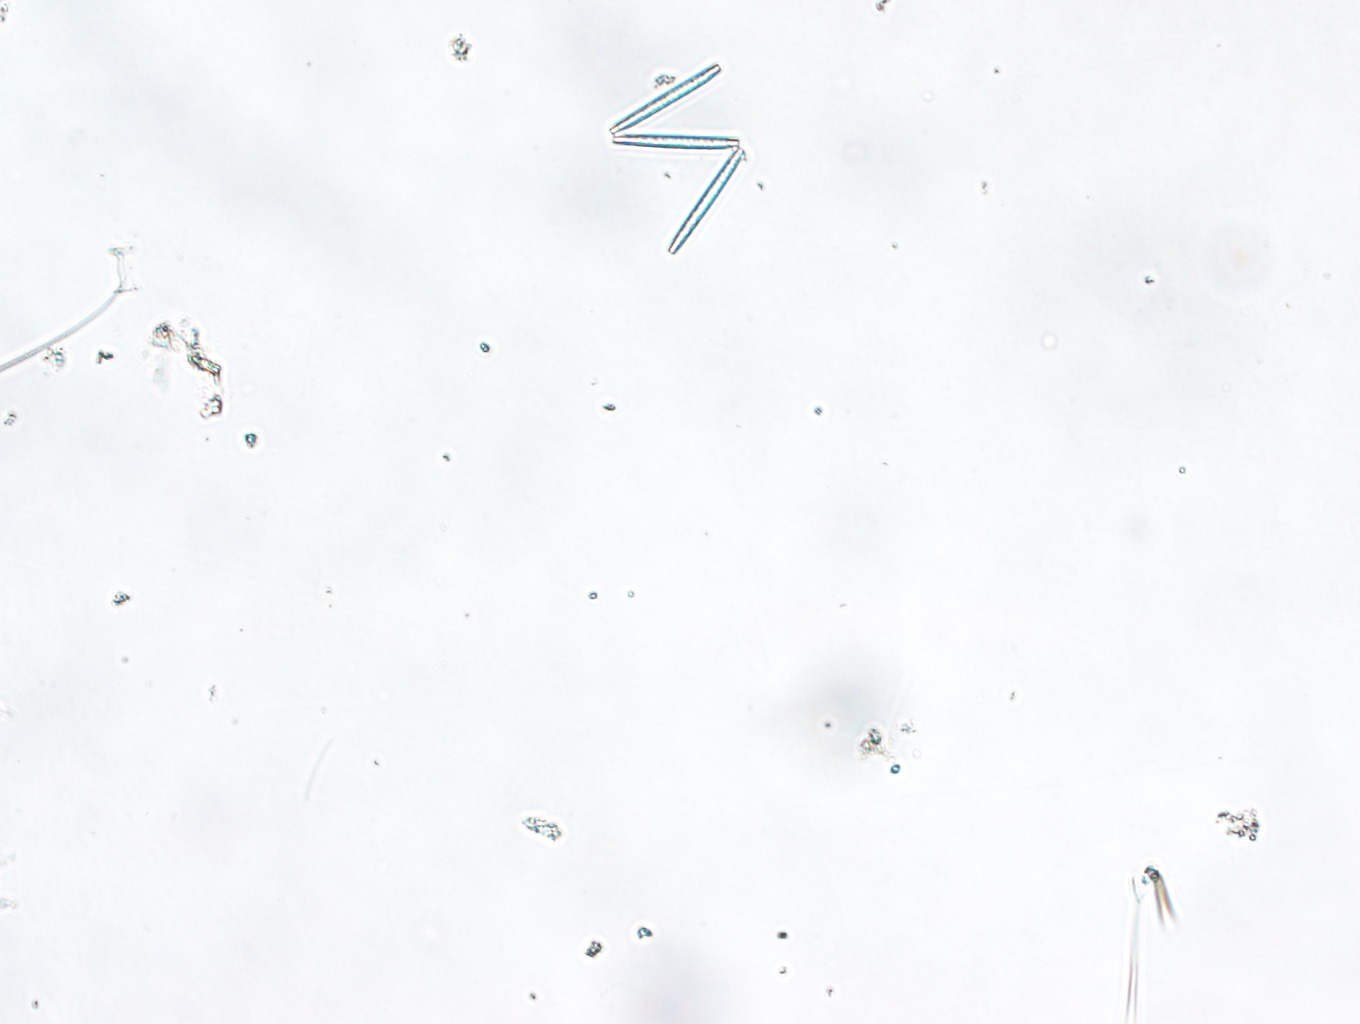thalassionema nitzschioides: (601, 52, 747, 259)
